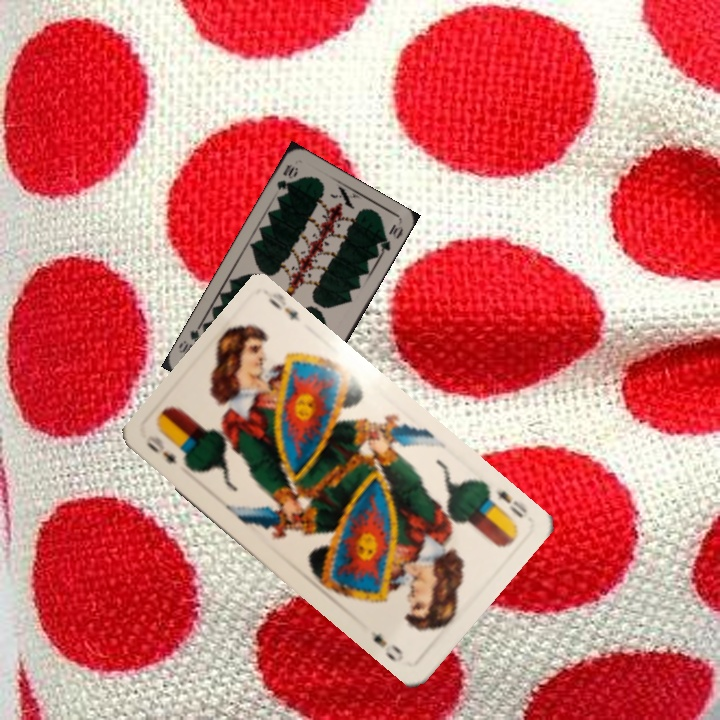EO: (483, 481, 530, 529), (142, 431, 180, 467)
G10: (272, 160, 301, 193)
